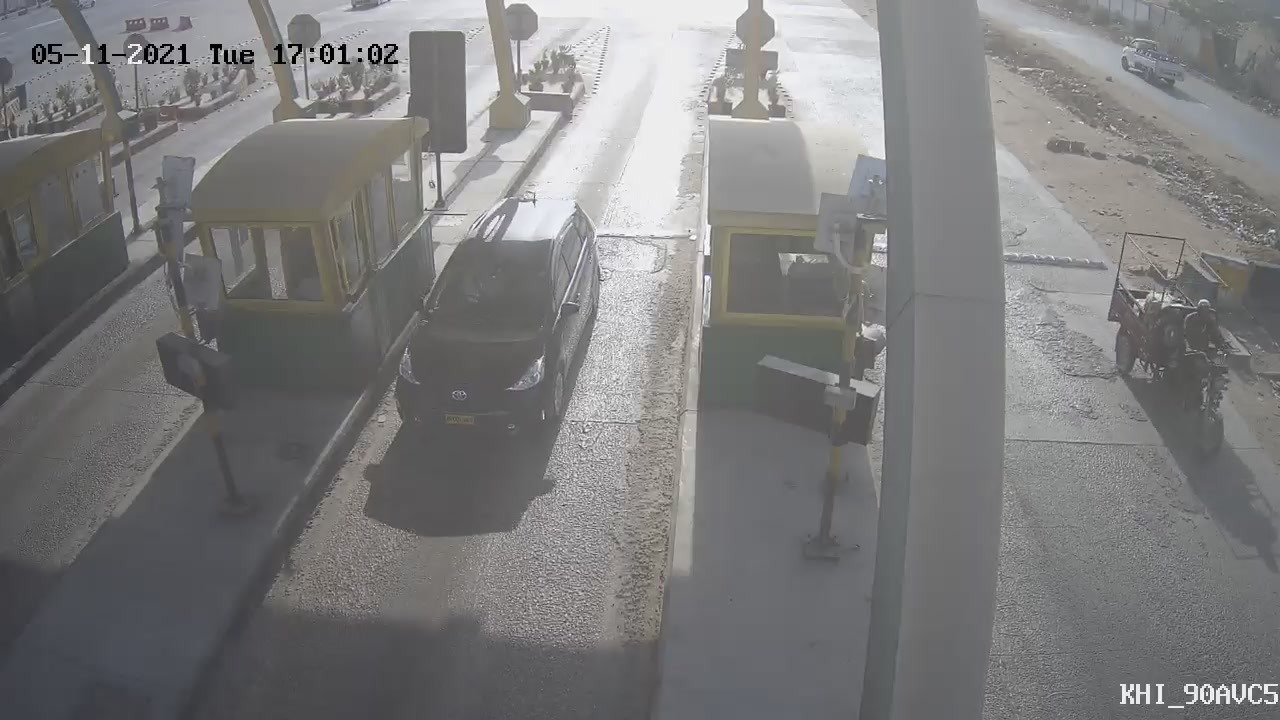F1: (372, 174, 618, 466)
